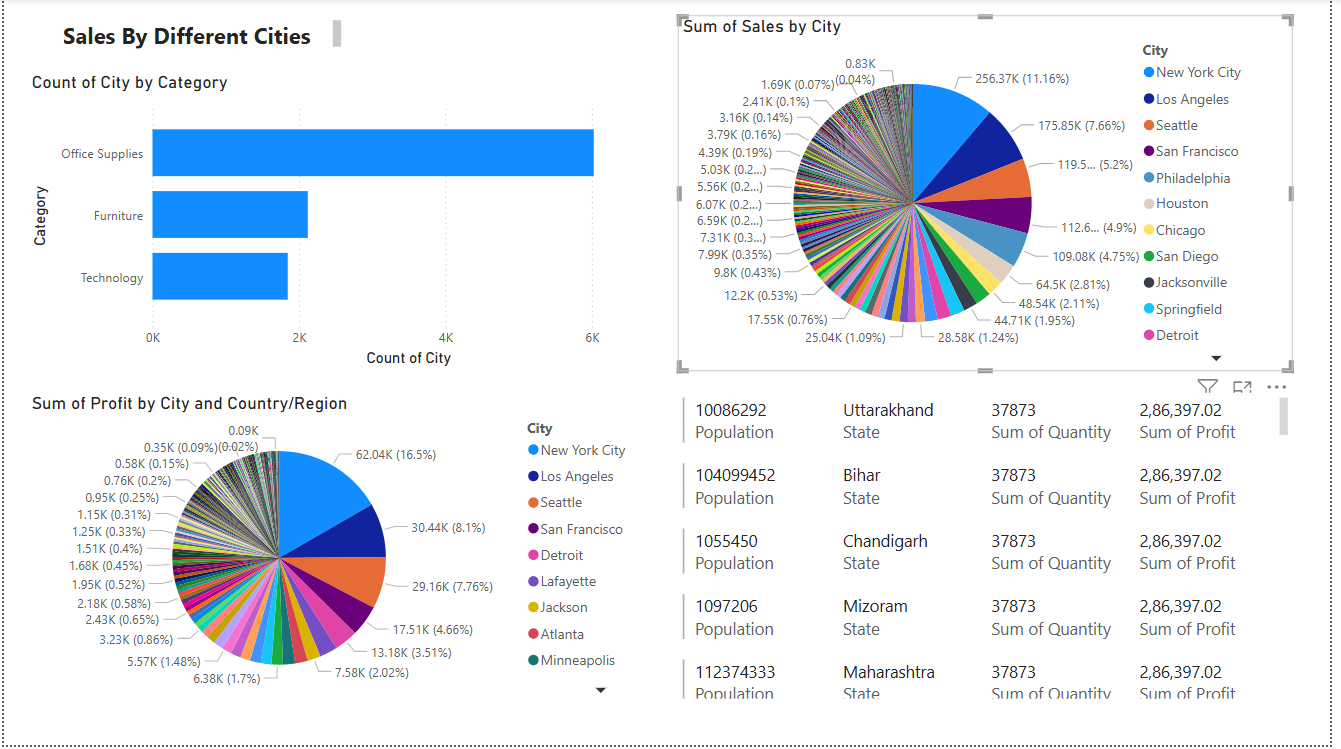

The page's visual inventory and layout, read from the dashboard file:
{"tool":"powerbi","page":{"name":"Page 1","canvas":[1280,720],"ordinal":0},"visuals":[{"type":"barChart","fields":{"Category":["Orders.Category","AUS states.State"],"Y":["CountNonNull(Orders.City)"]},"box":[21.7,70,628.6,289.5],"z":0},{"type":"pieChart","fields":{"Category":["Orders.City"],"Y":["Sum(Orders.Sales)"]},"box":[650.3,15.7,593.6,343.8],"z":1000},{"type":"textbox","box":[30.2,15.7,300.4,37.4],"z":2000},{"type":"multiRowCard","fields":{"Values":["State  (indian states).Population","State  (indian states).State ","Sum(Orders.Quantity)","Sum(Orders.Profit)"]},"box":[650.3,380,593.6,300.4],"z":3000},{"type":"pieChart","fields":{"Category":["Orders.City"],"Series":["Orders.Country/Region"],"Y":["Sum(Orders.Profit)"]},"box":[22,380,628,300],"z":4000}]}

Visuals, with their boxes in screenshot pixels (x1, y1, x2, y2), scaled from the page's 1280x720 canvas onto the 1341x749 screenshot:
barChart - Orders.Category x AUS states.State: rect(23, 73, 681, 374)
pieChart - Orders.City x Sum(Orders.Sales): rect(681, 16, 1303, 374)
textbox: rect(32, 16, 346, 55)
multiRowCard - State  (indian states).Population x State  (indian states).State : rect(681, 395, 1303, 708)
pieChart - Orders.City x Orders.Country/Region: rect(23, 395, 681, 707)
